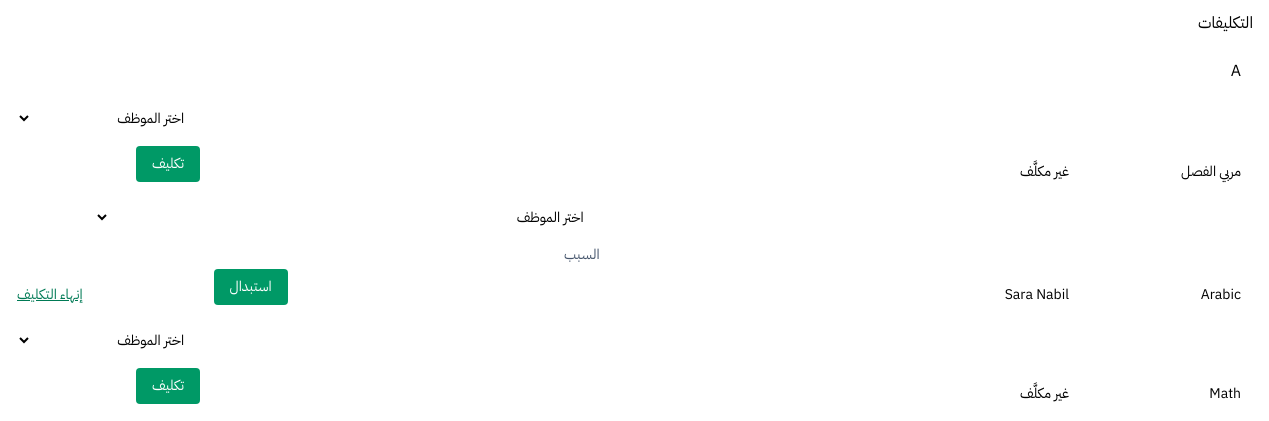
Test case: assignments card (3-3) › a lost race (409) and a guard refusal (422) are shown translated
The image size is (1269, 421).
Select "Omar Adel" in the dropdown with test id "slot-teach-A-Math-staff" at (109, 340), box [17, 321, 200, 360]
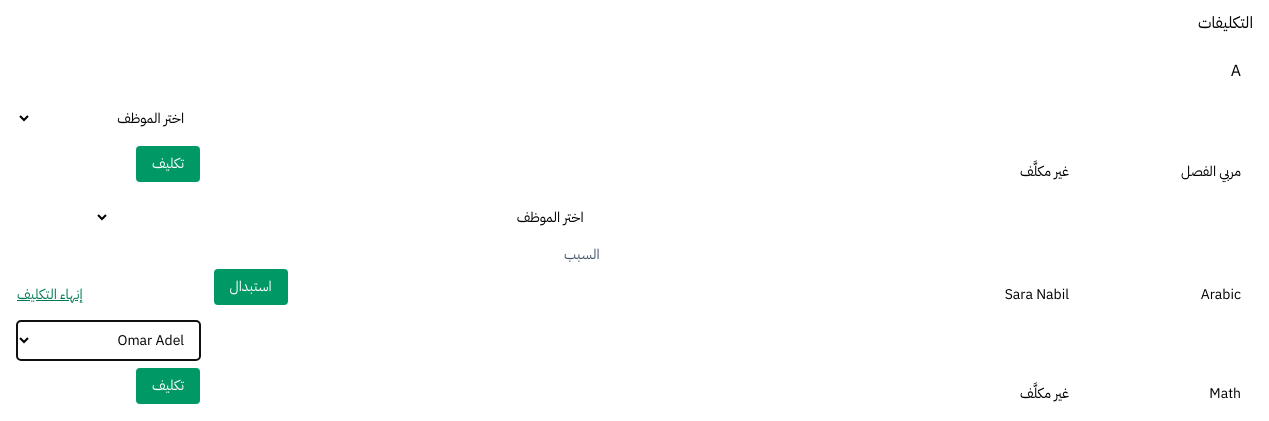
Click the button with test id "slot-teach-A-Math-submit" at (168, 386), box [136, 368, 200, 404]
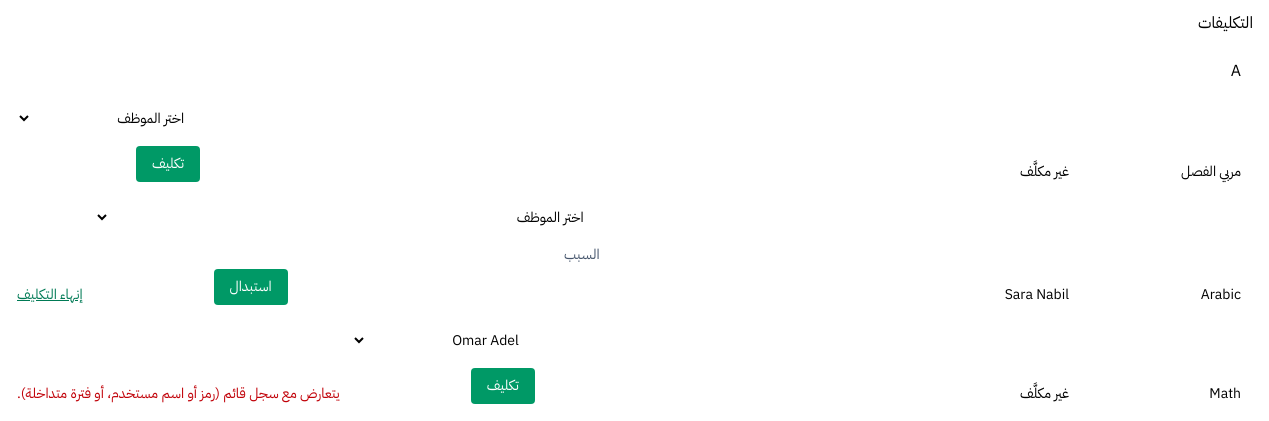
Now the message with test id "slot-teach-A-Math-error" reads "يتعارض مع سجل قائم (رمز أو اسم مستخدم، أو فترة متداخلة).", box [17, 383, 340, 404]
